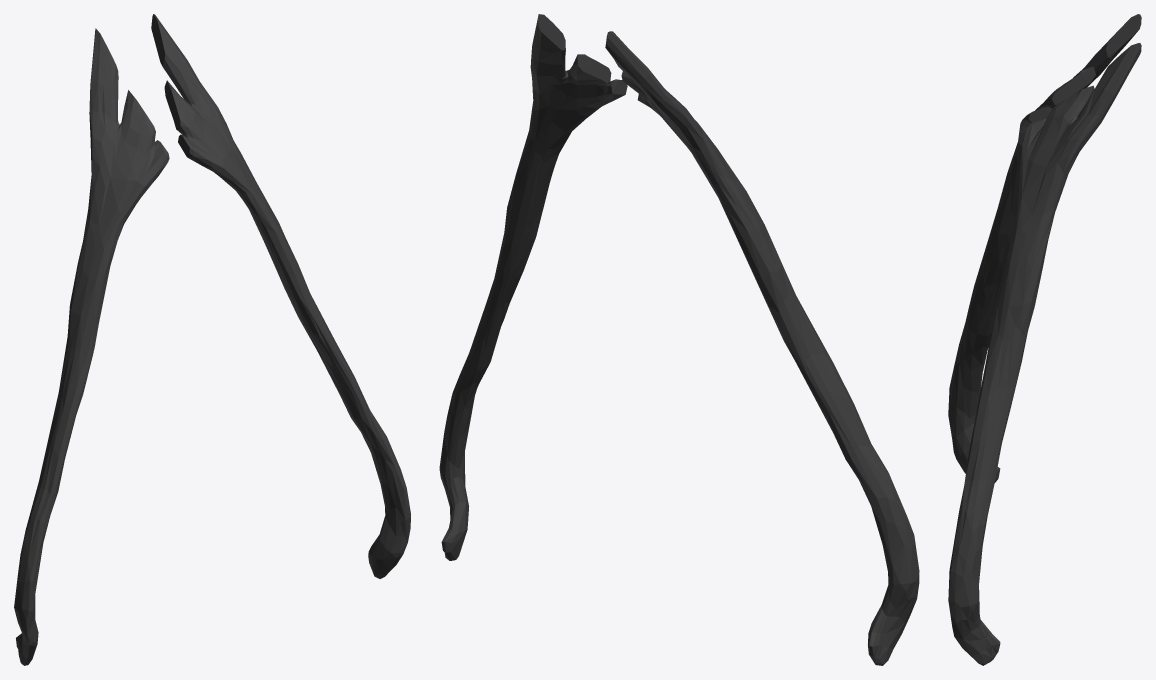
The model's file is m_parotidoauricularis.glb.
3 renders of one model, left to right at view 1: azimuth 30°, elevation 25°; view 2: azimuth 150°, elevation 25°; view 3: azimuth 270°, elevation 25°, orthographic. The views are drawn at different scales.
Parts seen in each view (by area): view 1: m_parotidoauricularis; view 2: m_parotidoauricularis; view 3: m_parotidoauricularis.
Boxes of the visible parts, box(x1,y1,x2,y2) form: m_parotidoauricularis: box(14, 14, 410, 665); m_parotidoauricularis: box(439, 14, 919, 665); m_parotidoauricularis: box(948, 14, 1141, 665).
Bounding box in the file's own units: 0.00262 × 0.00349 × 0.00111.
1 material, 1 textured.
